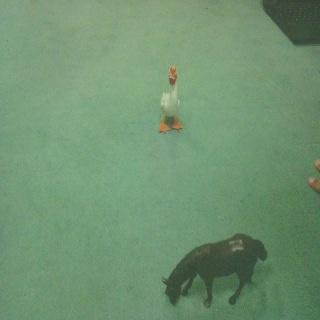duck: (148, 62, 189, 139)
horse: (159, 231, 272, 309)
